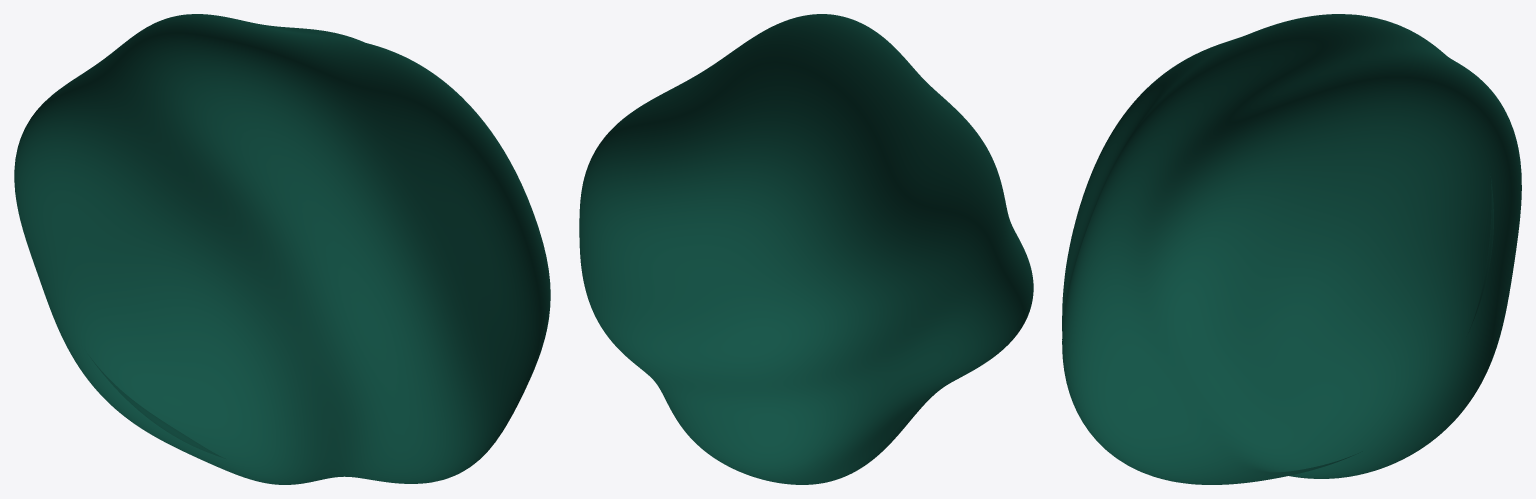
Rendered from blob.glb.
3 views of the same model, side by side, from view 1: azimuth 30°, elevation 25°; view 2: azimuth 150°, elevation 25°; view 3: azimuth 270°, elevation 25° (orthographic). The views are drawn at different scales.
Visible parts, largest first — view 1: Krogla; view 2: Krogla; view 3: Krogla.
Part boxes in pixels (x1,y1,x2,y2): Krogla: (14,14,550,484); Krogla: (579,14,1033,484); Krogla: (1062,14,1521,484).
Size of the model in its own units: 0.2062 by 0.2011 by 0.1957.
